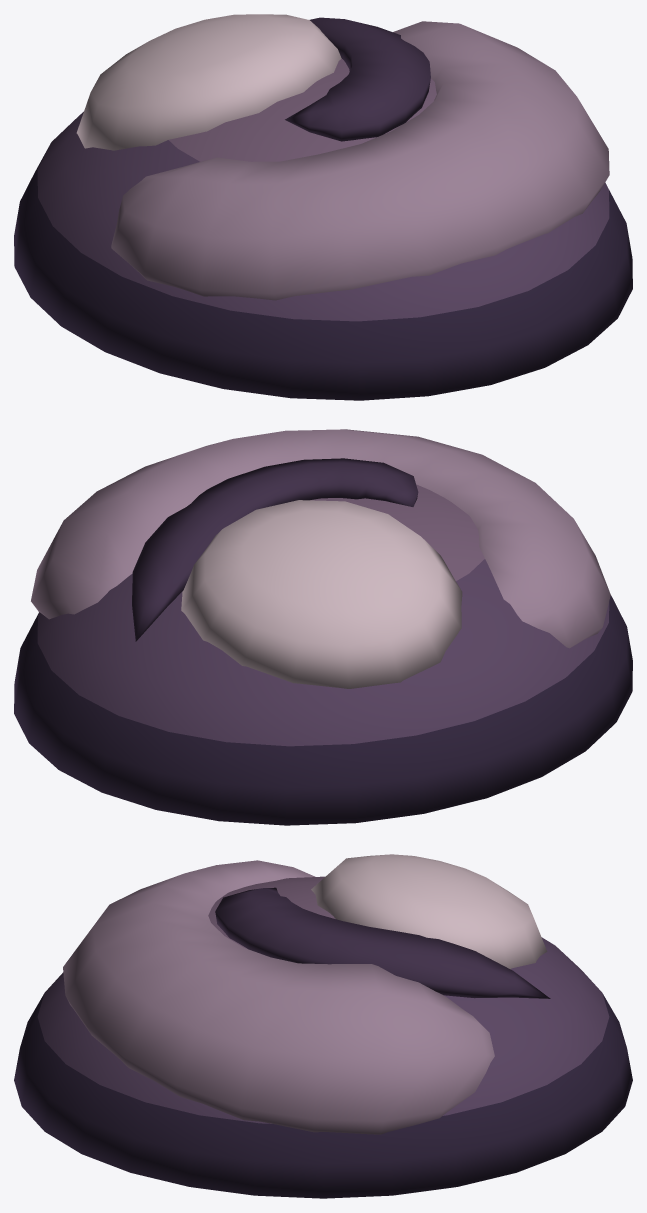
Rendered from newshm-117.glb.
3 views of the same model, one above another, from view 1: azimuth 30°, elevation 25°; view 2: azimuth 150°, elevation 25°; view 3: azimuth 270°, elevation 25° (orthographic). The views are drawn at different scales.
Parts seen in each view (by area): view 1: newshm-117; view 2: newshm-117; view 3: newshm-117.
Boxes of the visible parts, <box> form: newshm-117: <box>14,14,632,400</box>; newshm-117: <box>14,429,632,825</box>; newshm-117: <box>14,854,632,1198</box>.
Bounding box in the file's own units: 1.1 × 0.4127 × 1.22.
